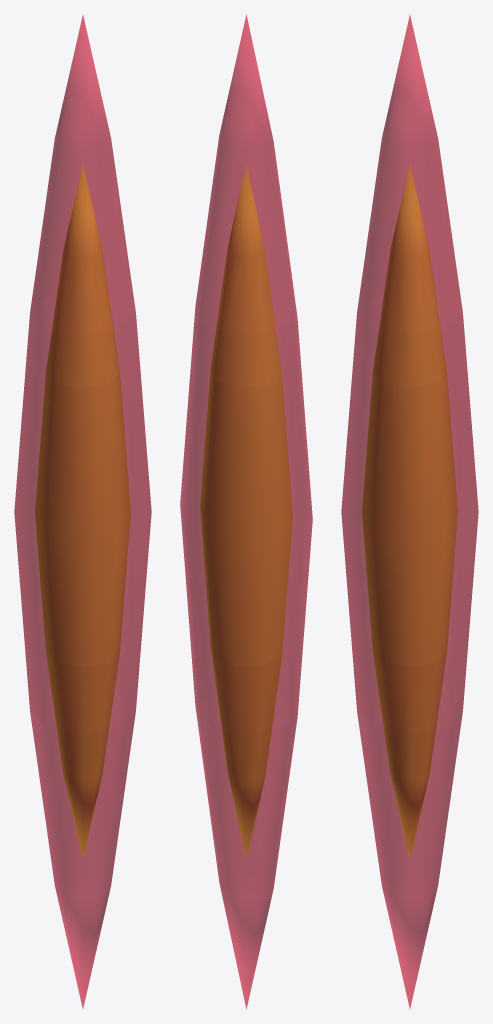
Rendered from Jaldabaoth_Burst.FBX.
3 views of the same model, side by side, from view 1: azimuth 90°, elevation 25°; view 2: azimuth 210°, elevation 25°; view 3: azimuth 270°, elevation 25° (orthographic).
Parts seen in each view (by area): view 1: BurstOutsideq, BurstInside; view 2: BurstOutsideq, BurstInside; view 3: BurstOutsideq, BurstInside.
Boxes of the visible parts, bbox=[...] form: BurstOutsideq: bbox=[14, 15, 151, 1008]; BurstInside: bbox=[35, 164, 130, 859]; BurstOutsideq: bbox=[180, 14, 312, 1009]; BurstInside: bbox=[200, 164, 292, 859]; BurstOutsideq: bbox=[341, 15, 478, 1008]; BurstInside: bbox=[362, 164, 457, 859].
Bounding box in the file's own units: 50 × 400 × 50.
